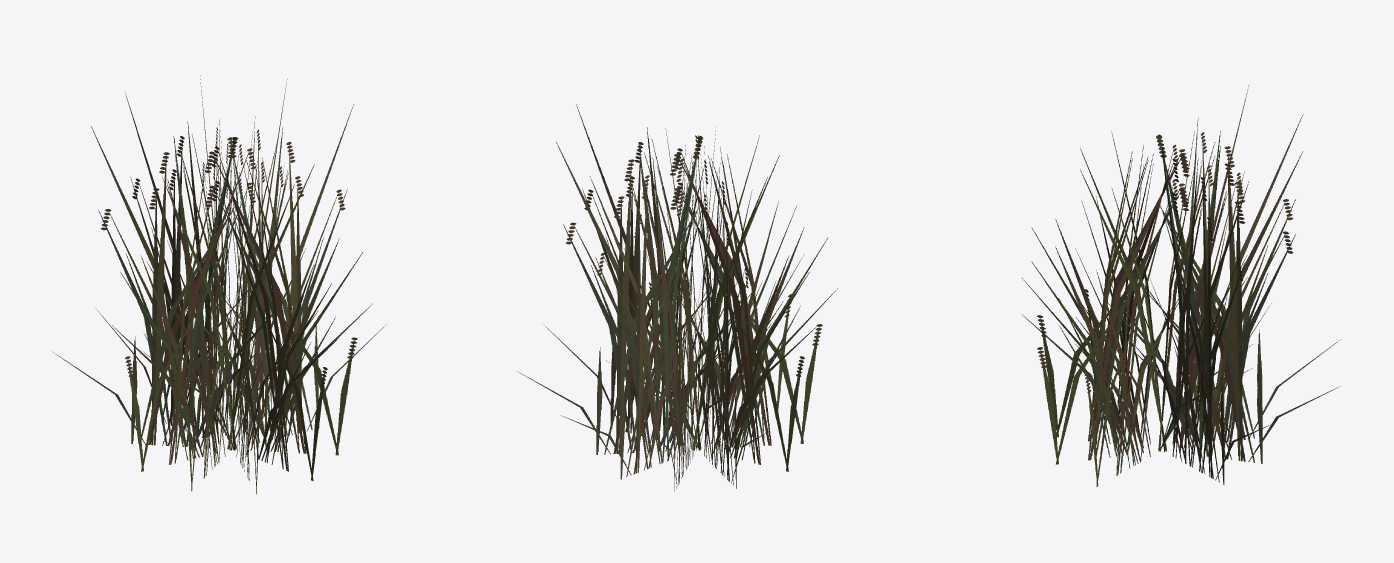
Rendered from env_dry_grass.fbx.
The picture shows the model from 3 angles, left to right: view 1: azimuth 30°, elevation 25°; view 2: azimuth 150°, elevation 25°; view 3: azimuth 270°, elevation 25°; orthographic projection.
Visible parts, largest first — view 1: env_dry_grass; view 2: env_dry_grass; view 3: env_dry_grass.
Part boxes in pixels (x1,y1,x2,y2): env_dry_grass: (52,75,384,494); env_dry_grass: (517,104,837,491); env_dry_grass: (1022,84,1340,486).
Bounding box in the file's own units: 45 × 45 × 40.
1 material, 1 textured.
